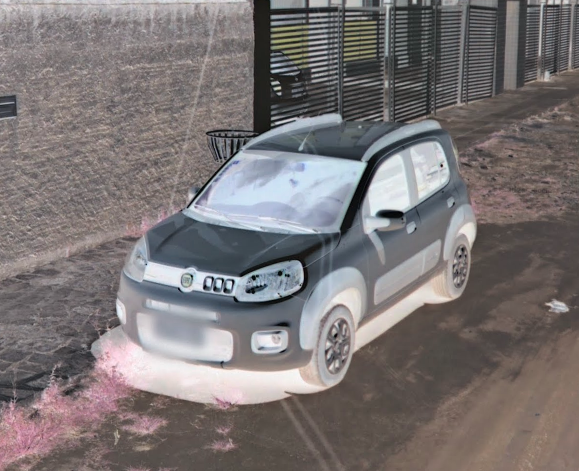car: (114, 110, 478, 392)
